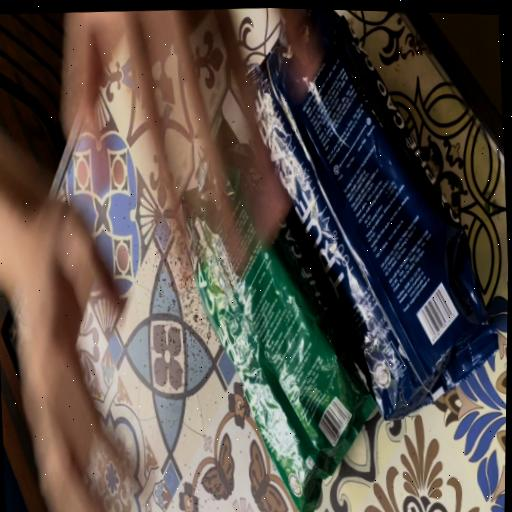cafe_hat: (249, 9, 497, 419)
cafe_xay: (183, 164, 375, 512)
